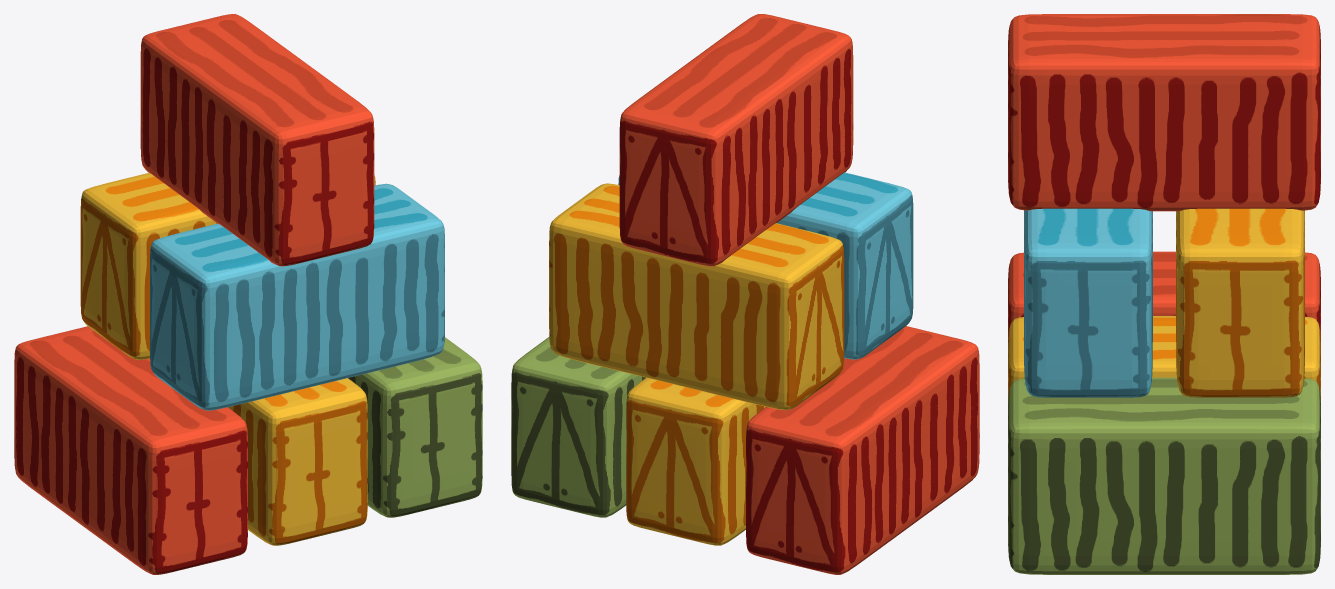
File: CARGO.fbx
3 views of the same model, side by side, from view 1: azimuth 30°, elevation 25°; view 2: azimuth 150°, elevation 25°; view 3: azimuth 270°, elevation 25° (orthographic). The views are drawn at different scales.
Parts seen in each view (by area): view 1: CARGO_005, CARGO_006, CARGO_003, CARGO_002, CARGO_001, CARGO_004; view 2: CARGO_004, CARGO_006, CARGO_003, CARGO_002, CARGO_001, CARGO_005; view 3: CARGO_006, CARGO_001, CARGO_004, CARGO_005, CARGO_003, CARGO_002.
Part boxes in pixels (x1,y1,x2,y2): CARGO_005: (150,183,444,410); CARGO_006: (140,14,374,266); CARGO_003: (14,326,247,574); CARGO_002: (228,378,367,545); CARGO_001: (348,337,482,517); CARGO_004: (80,173,375,359); CARGO_004: (549,183,844,410); CARGO_006: (619,14,853,266); CARGO_003: (746,326,979,574); CARGO_002: (626,377,765,545); CARGO_001: (511,337,645,517); CARGO_005: (618,172,913,359); CARGO_006: (1008,14,1320,211); CARGO_001: (1008,377,1320,574); CARGO_004: (1176,208,1304,397); CARGO_005: (1024,208,1152,397); CARGO_003: (1008,251,1320,341); CARGO_002: (1008,316,1320,403).
Size of the model in its own units: 1410 by 1669 by 1034.
